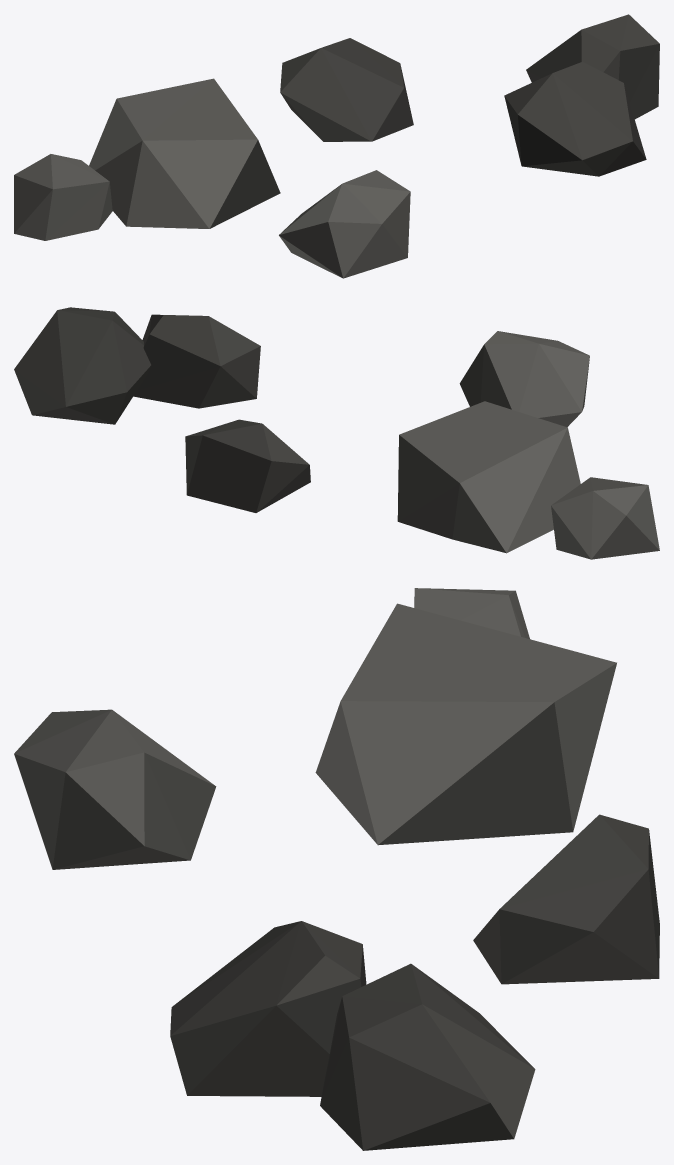
File: SM_Env_Rock_Pebbles_01.fbx
3 renders of one model, top to bottom at view 1: azimuth 30°, elevation 25°; view 2: azimuth 150°, elevation 25°; view 3: azimuth 270°, elevation 25°, orthographic. The views are drawn at different scales.
Parts seen in each view (by area): view 1: SM_Env_Rock_Pebbles_01; view 2: SM_Env_Rock_Pebbles_01; view 3: SM_Env_Rock_Pebbles_01.
Boxes of the visible parts, x1=… form: SM_Env_Rock_Pebbles_01: x1=14, y1=14, x2=659, y2=278; SM_Env_Rock_Pebbles_01: x1=14, y1=307, x2=659, y2=559; SM_Env_Rock_Pebbles_01: x1=14, y1=588, x2=659, y2=1150.
Bounding box in the file's own units: 59.76 × 7.69 × 32.11.
1 material, 1 textured.
